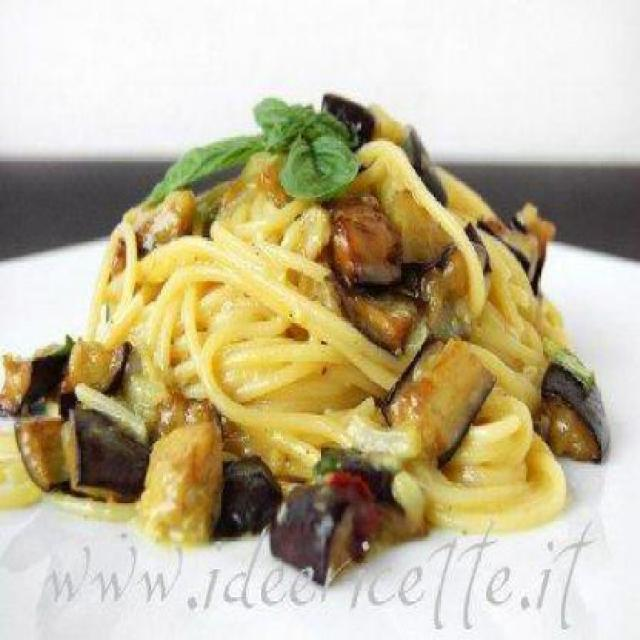Pasta with carbonara sauce: (31, 54, 626, 606)
